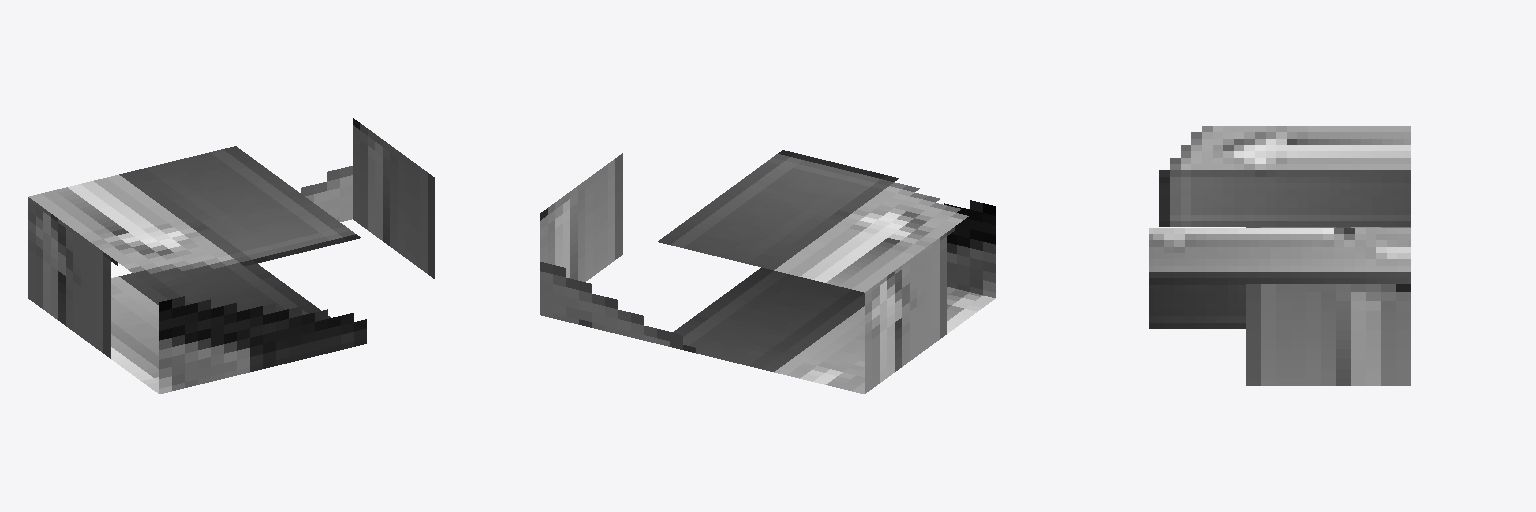
3 views of the same model, side by side, from view 1: azimuth 30°, elevation 25°; view 2: azimuth 150°, elevation 25°; view 3: azimuth 270°, elevation 25° (orthographic).
Visible parts, largest first — view 1: Cube; view 2: Cube; view 3: Cube.
Part boxes in pixels (bbox=[...]): Cube: bbox=[28, 118, 434, 393]; Cube: bbox=[540, 150, 995, 393]; Cube: bbox=[1149, 126, 1410, 385].
Bounding box in the file's own units: 2 × 0.6 × 1.4.
Materials: 1 (1 with a texture image).